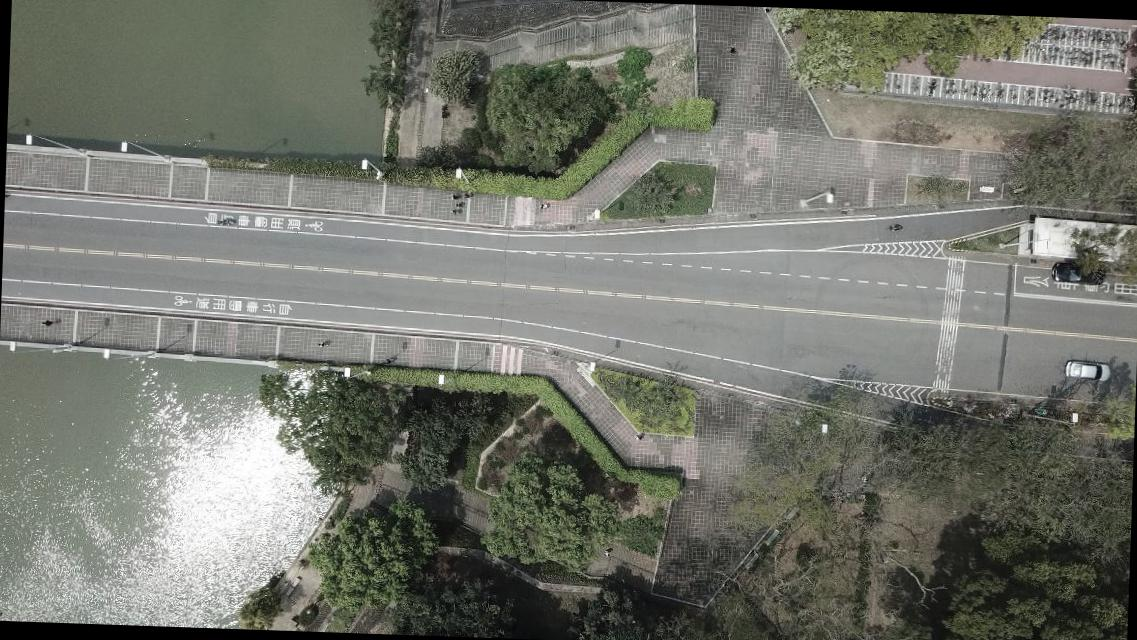vehicle: (1050, 260, 1106, 287), (1063, 360, 1110, 383)
